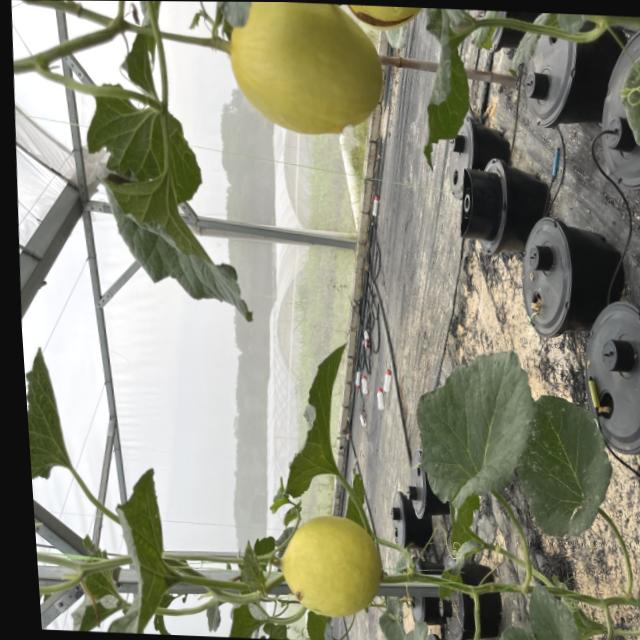CMV: (102, 469, 185, 633), (23, 341, 82, 486)
healthy: (90, 163, 266, 339), (402, 338, 544, 513), (275, 339, 356, 501), (85, 92, 195, 195)
powdery mildew: (510, 396, 619, 538)
